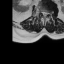CCS_normal: (44, 9, 45, 18)
LFS_stenosis: (48, 10, 50, 16)
LLS_normal: (46, 10, 48, 16)
RFS_stenosis: (39, 9, 42, 14)
RLS_normal: (42, 10, 44, 17)
